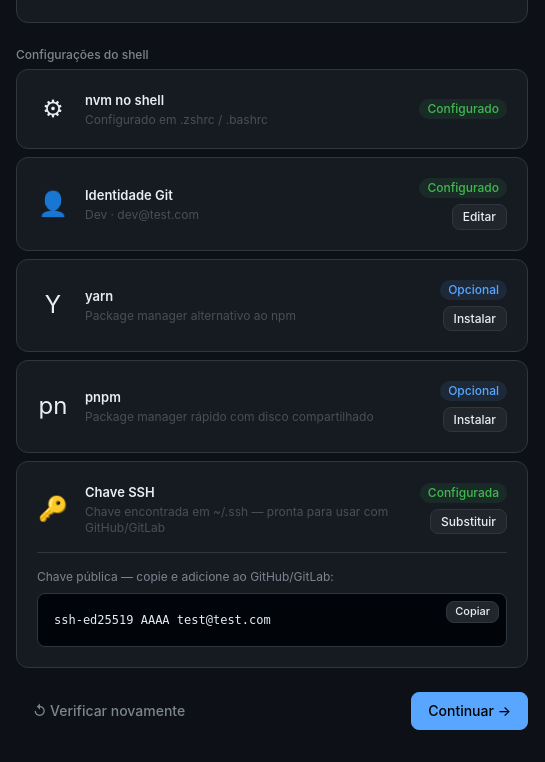
it: SSH key card › mostra confirmação ao clicar em Substituir e cancela corretamente
The width and height of the screenshot is (545, 762).
(page scrolled)
Click the button "Substituir".
click(469, 522)  # box 430,509 -> 507,534
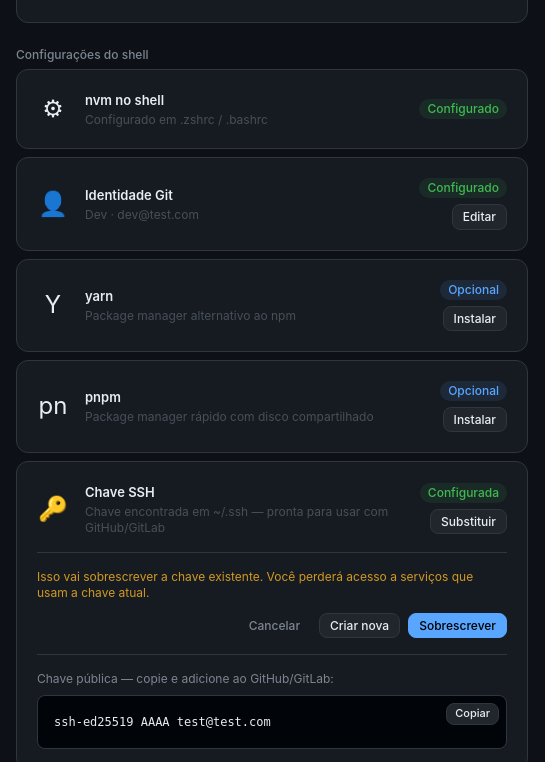
Check: the button "Sobrescrever" is shown, box 408,613 -> 507,638
Click the button "Cancelar".
click(274, 625)  # box 238,613 -> 311,638
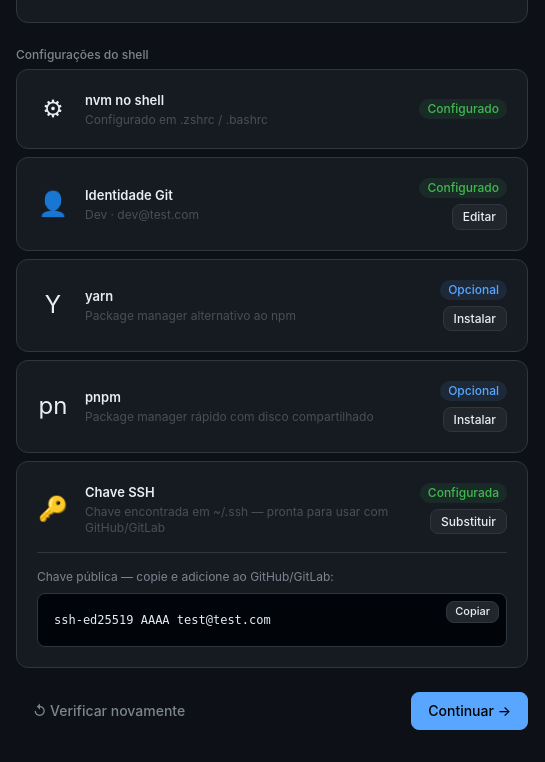
Check: the text "sobrescrever" is gone
